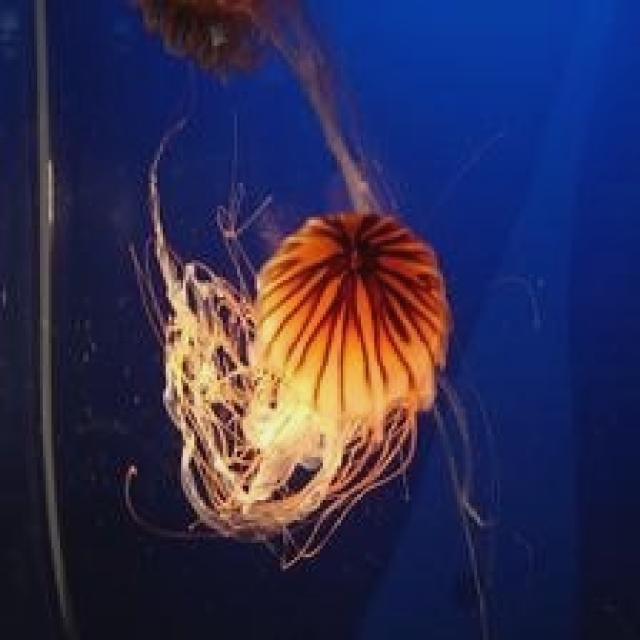Box-jellyfish: (109, 0, 512, 637)
